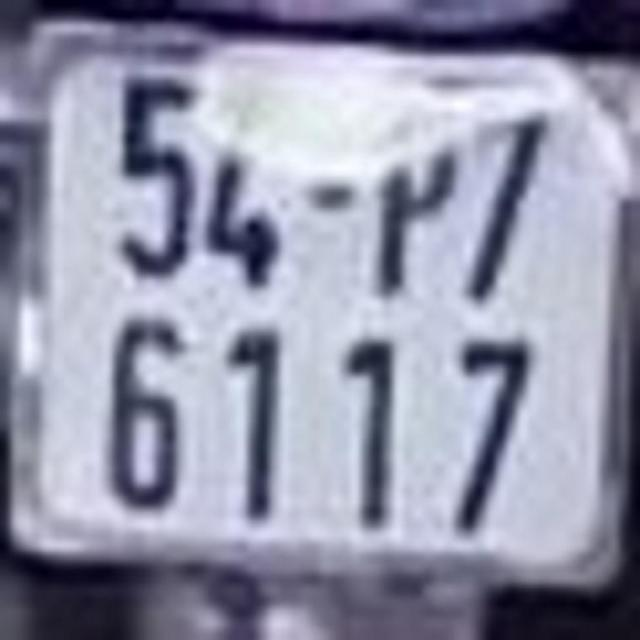1: (343, 337, 396, 522), (232, 328, 274, 520)
4: (208, 83, 280, 287)
5: (116, 74, 197, 273)
6: (115, 311, 181, 507)
7: (466, 95, 545, 308), (446, 328, 526, 531)
P: (368, 94, 458, 302)
